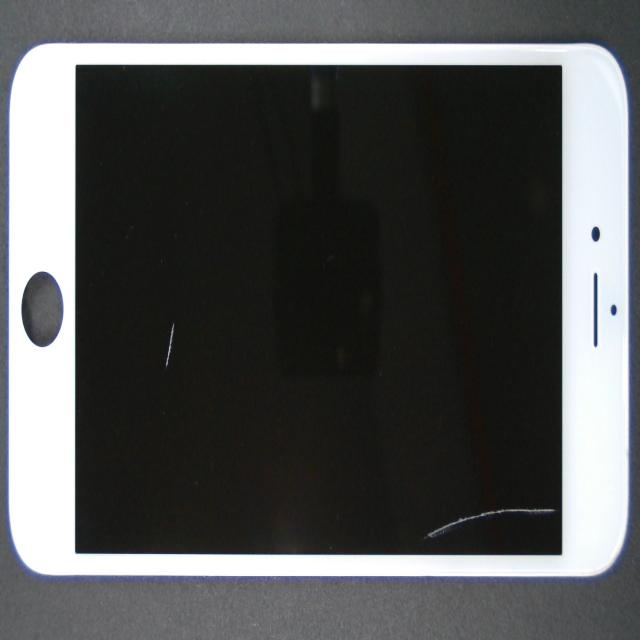scratch: (283, 274, 640, 640), (93, 116, 245, 501)
